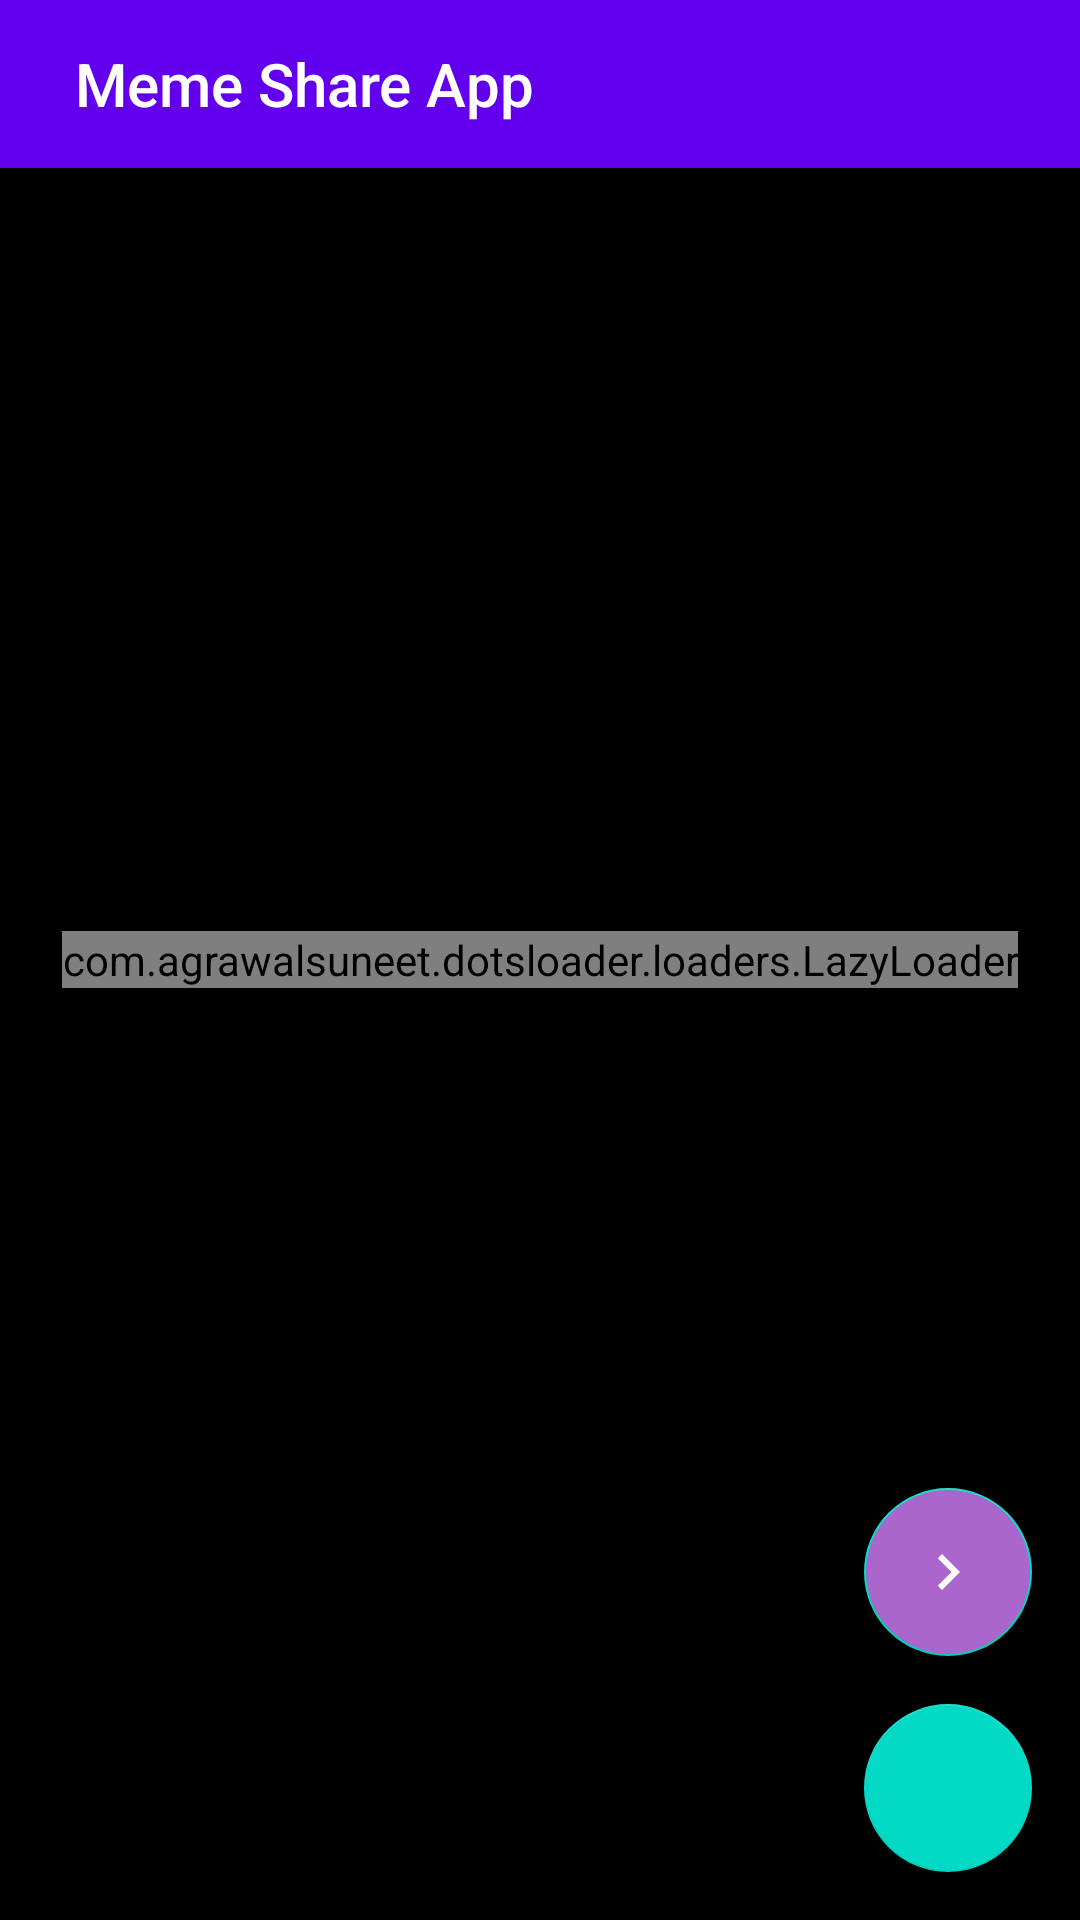

Icons on this 1080 × 1920 Android screen, each with the point to tap as (x=x, y=y):
Next Meme: (x=948, y=1572)
